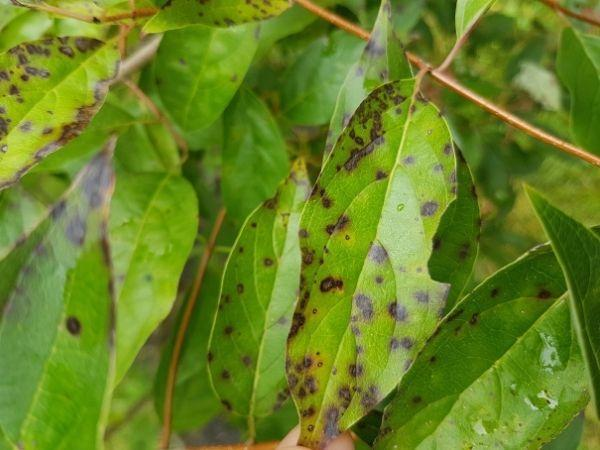black-spot: (323, 167, 409, 348)
